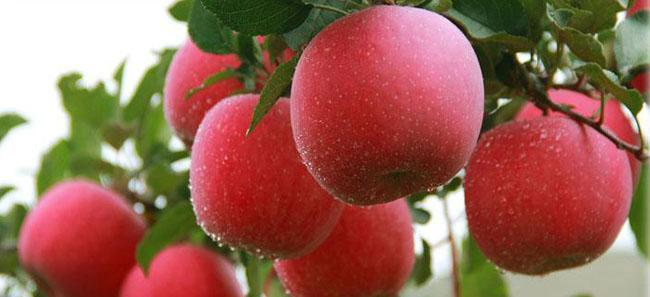apple: (286, 3, 484, 203), (182, 90, 357, 255), (463, 114, 635, 279), (272, 196, 417, 296)
